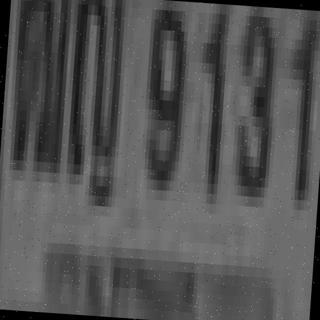N01: (276, 19, 320, 210), (189, 13, 233, 204)
N03: (226, 15, 280, 208)
N09: (140, 9, 186, 191)
